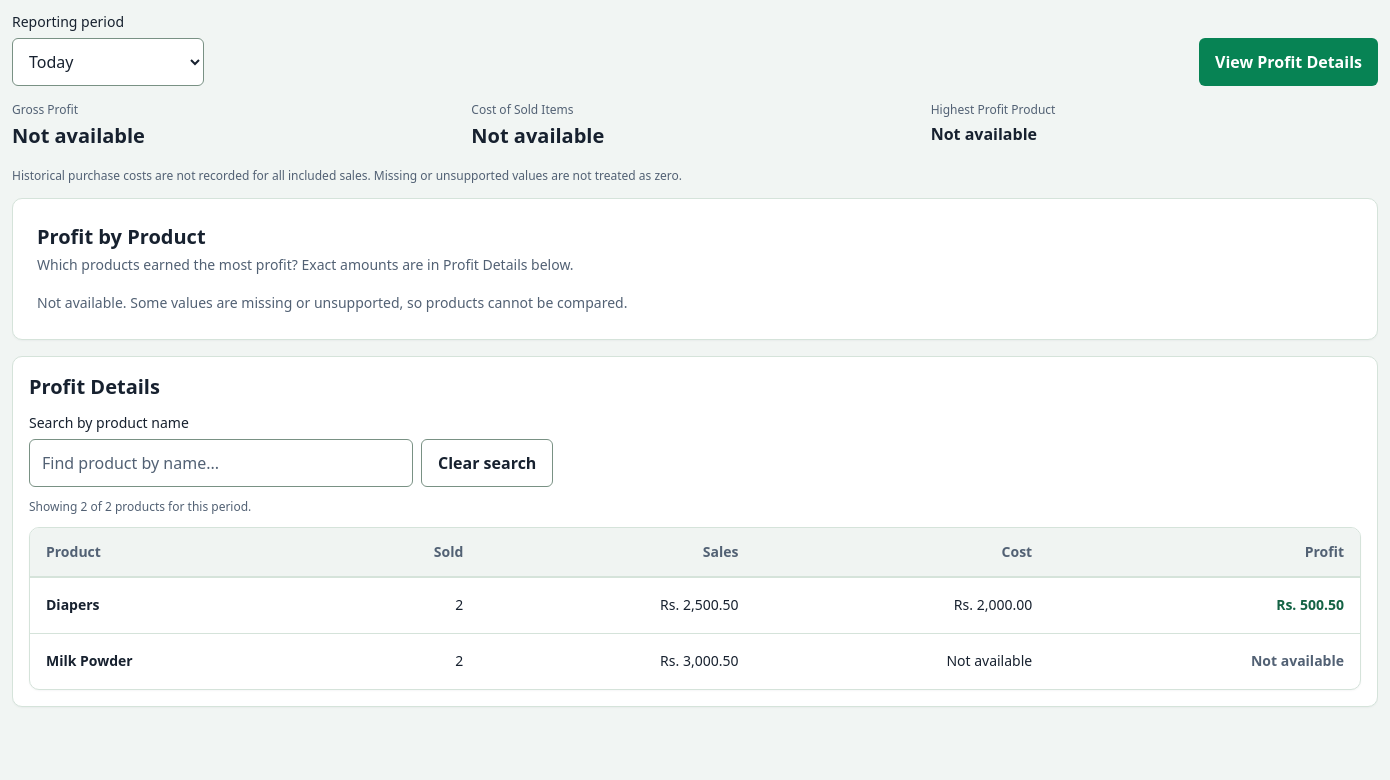
Scenario: read-only Admin profit report › keeps a mixed-cost overall total unavailable even when search selects a fully costed product
Type "diapers" into the search field at point(221, 463), box top-left (29, 439), bottom-right (413, 487)
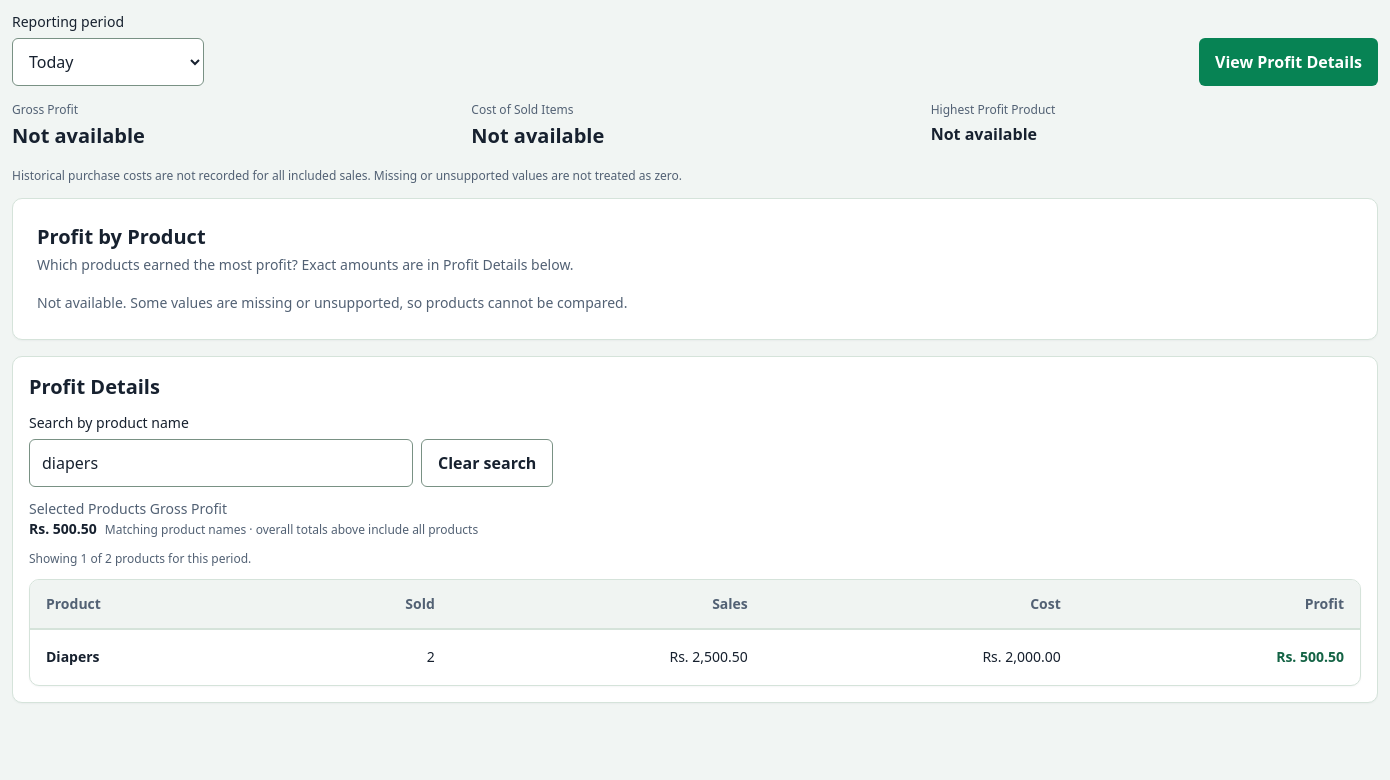
Check: the 1st text "Not available" is shown, box top-left (12, 122), bottom-right (145, 149)
Check: the text "Rs. 500.50" is shown, box top-left (29, 519), bottom-right (97, 538)
Check: the cells read "2", "Rs. 2,500.50", "Rs. 2,000.00", "Rs. 500.50", in this order, box top-left (276, 629), bottom-right (451, 685); top-left (451, 629), bottom-right (764, 685); top-left (764, 629), bottom-right (1077, 685); top-left (1077, 629), bottom-right (1360, 685)
